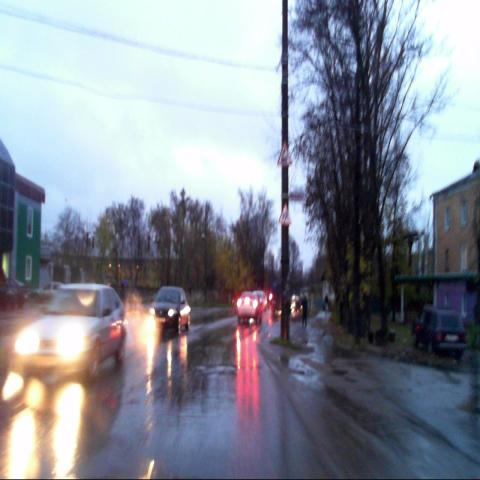1_2: (277, 140, 292, 166)
